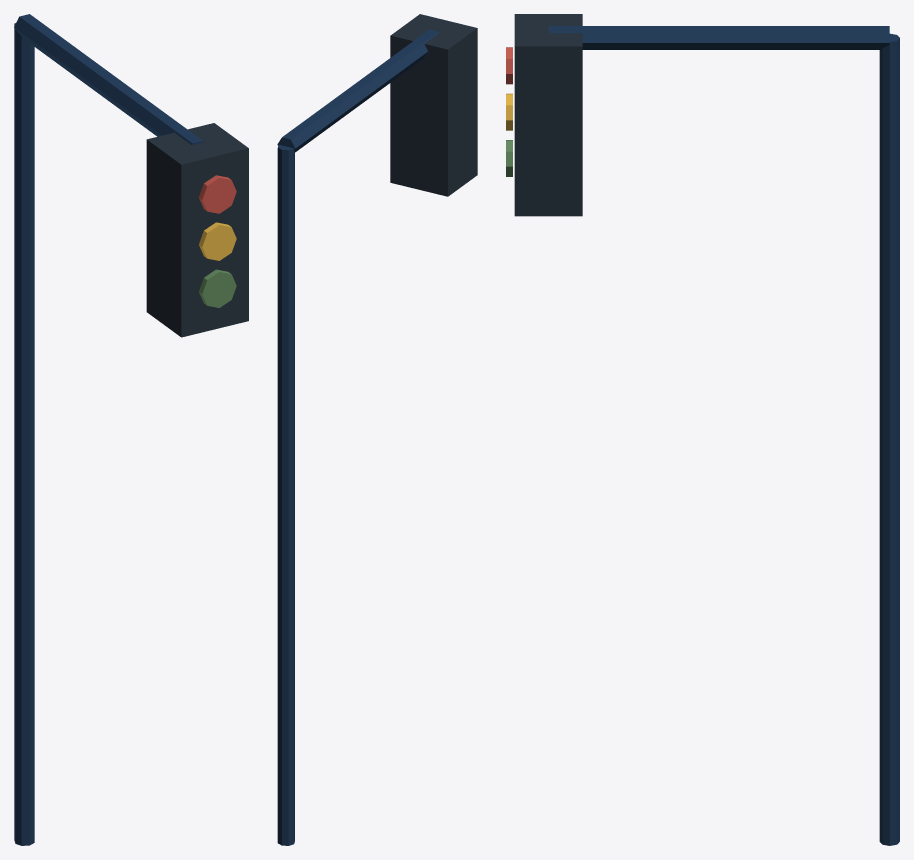
File: Signal.fbx
3 views of the same model, side by side, from view 1: azimuth 30°, elevation 25°; view 2: azimuth 150°, elevation 25°; view 3: azimuth 270°, elevation 25° (orthographic). The views are drawn at different scales.
Parts seen in each view (by area): view 1: Signal; view 2: Signal; view 3: Signal.
Boxes of the visible parts, x1,y1,x2,y2 form: Signal: (14,14,248,845); Signal: (277,14,477,845); Signal: (506,14,899,845).
Bounding box in the file's own units: 0.45 × 5.26 × 2.31.
